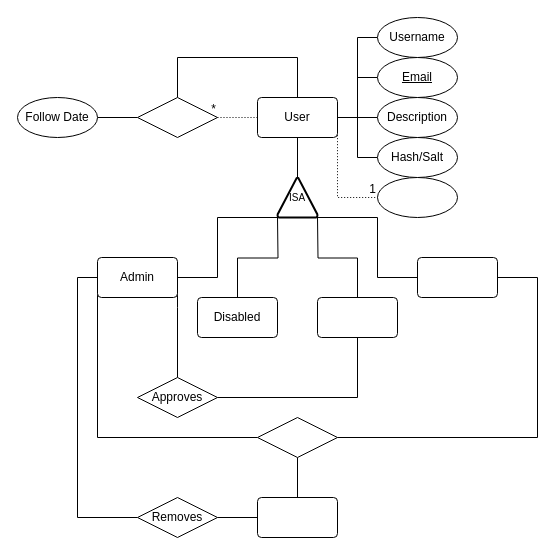
Some shapes in this 556 by 555 pixel diagram are drawn without their labels. The centre of each missing label's shape, as x and y in pixels:
Basic: (x=357, y=317)
Creates: (x=297, y=437)
Follows: (x=177, y=117)
Location: (x=417, y=197)
Normal: (x=457, y=277)
Post: (x=297, y=517)
